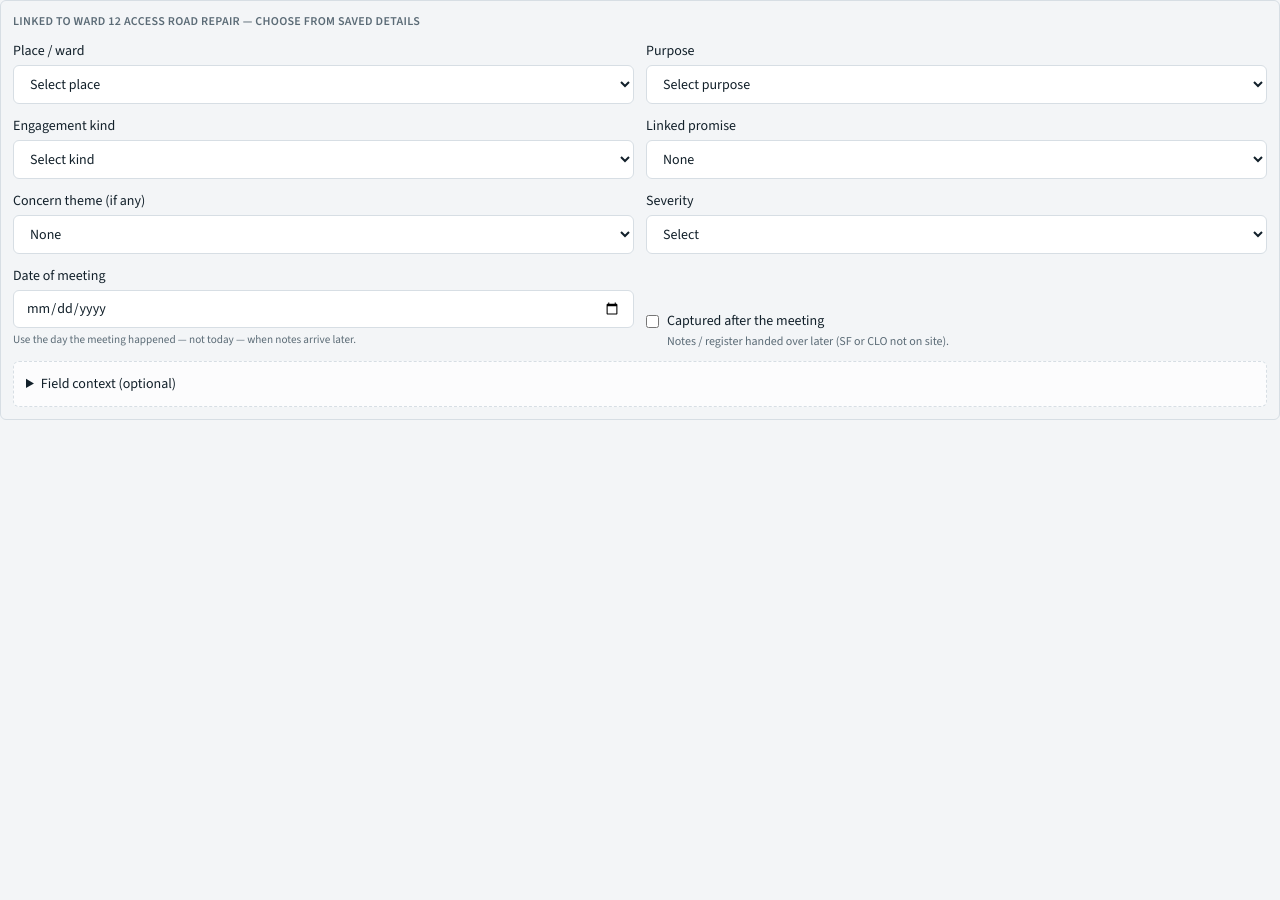
Test: TE-5 Global South — field capture › keeps existing capture dropdowns and hides extras behind optional details
Expected: the dropdown labelled "Place / ward" is shown, [13, 65, 634, 104]
Expected: the dropdown labelled "Engagement kind" is shown, [13, 140, 634, 179]
Click the heading "Field context (optional)": {"x": 108, "y": 383} [41, 374, 176, 393]
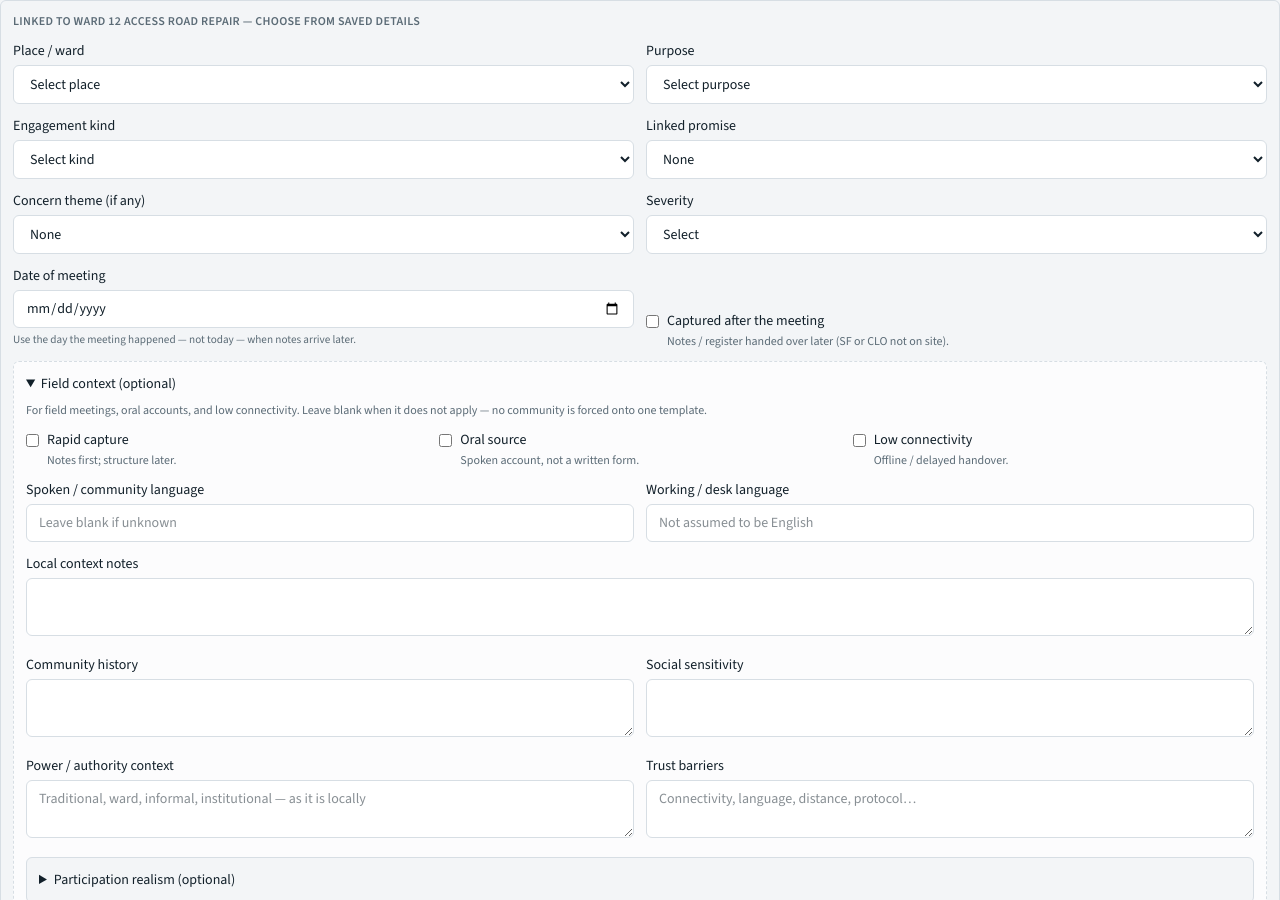
Now the field labelled "Spoken / community language" is shown, box [26, 504, 634, 542]
Now the checkbox labelled "Rapid capture Notes first; structure later." is shown, box [26, 434, 39, 447]
Now the checkbox labelled "Oral source Spoken account, not a written form." is shown, box [439, 434, 452, 447]
